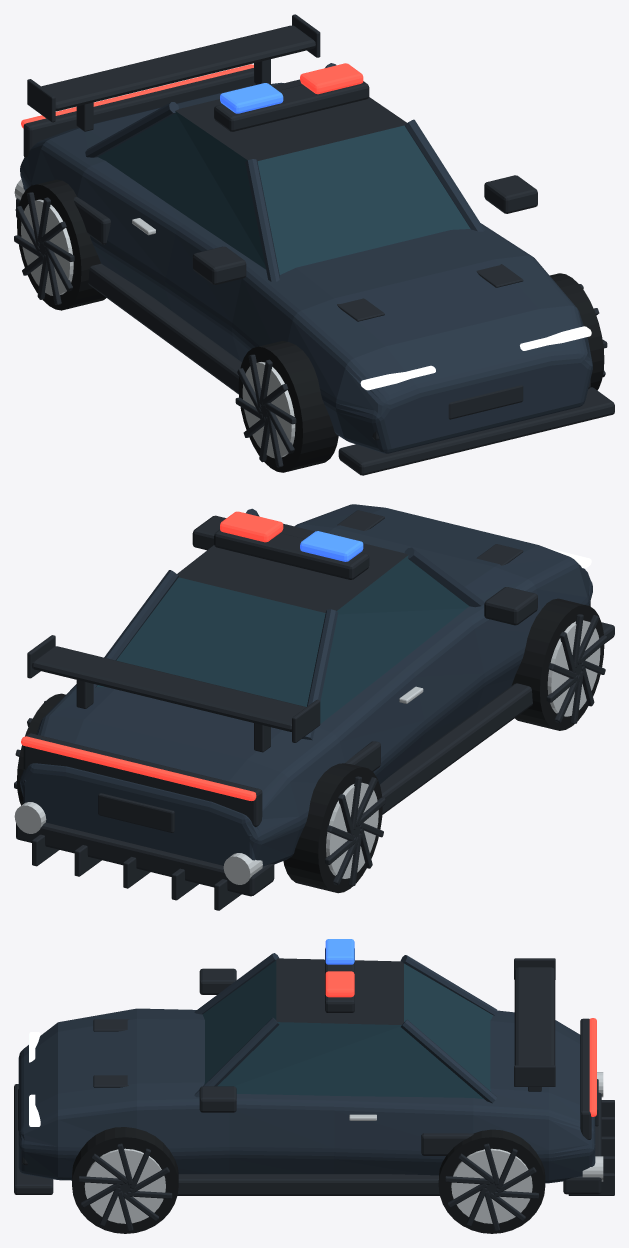
File: pursuit-coupe.glb
3 views of the same model, one above another, from view 1: azimuth 30°, elevation 25°; view 2: azimuth 150°, elevation 25°; view 3: azimuth 270°, elevation 25° (orthographic). The views are drawn at different scales.
Visible parts, largest first — view 1: Craft_Pursuit body, Craft_Carbon graphite.001, Craft_Smoked glazing.001, Craft_Rubber.001, Craft_Rubber.002, Craft_Carbon graphite.002, Craft_Carbon graphite.003, Craft_Rear LED.001, Craft_Machined aluminum.002, Craft_Rubber.003, Craft_Machined aluminum.003, Craft_Headlight LED.001 (+1 smaller); view 2: Craft_Pursuit body, Craft_Carbon graphite.001, Craft_Smoked glazing.001, Craft_Rubber.002, Craft_Rubber.001, Craft_Rear LED.001, Craft_Carbon graphite.002, Craft_Carbon graphite.003, Craft_Machined aluminum.001, Craft_Machined aluminum.003, Craft_Machined aluminum.002, Craft_Emergency blue (+1 smaller); view 3: Craft_Pursuit body, Craft_Carbon graphite.001, Craft_Smoked glazing.001, Craft_Rubber.003, Craft_Rubber.004, Craft_Machined aluminum.005, Craft_Machined aluminum.004, Craft_Carbon graphite.004, Craft_Carbon graphite.005, Craft_Rear LED.001, Craft_Emergency blue, Craft_Machined aluminum.001 (+1 smaller).
Boxes of the visible parts, x1,y1,x2,y2 form: Craft_Pursuit body: (20, 63, 592, 453); Craft_Carbon graphite.001: (16, 14, 614, 475); Craft_Smoked glazing.001: (98, 111, 470, 274); Craft_Rubber.001: (238, 341, 338, 472); Craft_Rubber.002: (17, 179, 106, 310); Craft_Carbon graphite.002: (235, 354, 296, 467); Craft_Carbon graphite.003: (14, 192, 74, 304); Craft_Rear LED.001: (21, 63, 363, 128); Craft_Machined aluminum.002: (242, 362, 295, 458); Craft_Rubber.003: (550, 273, 604, 390); Craft_Machined aluminum.003: (21, 199, 73, 295); Craft_Headlight LED.001: (360, 326, 591, 390); Craft_Pursuit body: (20, 504, 592, 866); Craft_Carbon graphite.001: (16, 510, 614, 910); Craft_Smoked glazing.001: (96, 555, 469, 723); Craft_Rubber.002: (283, 763, 382, 893); Craft_Rubber.001: (511, 598, 604, 730); Craft_Rear LED.001: (21, 511, 283, 800); Craft_Carbon graphite.002: (546, 614, 607, 723); Craft_Carbon graphite.003: (325, 776, 385, 886); Craft_Machined aluminum.001: (14, 686, 423, 884); Craft_Machined aluminum.003: (326, 782, 378, 878); Craft_Machined aluminum.002: (547, 620, 600, 716); Craft_Emergency blue: (300, 531, 363, 561); Craft_Pursuit body: (18, 953, 595, 1183); Craft_Carbon graphite.001: (14, 948, 614, 1195); Craft_Smoked glazing.001: (202, 960, 492, 1099); Craft_Rubber.003: (72, 1127, 178, 1233); Craft_Rubber.004: (438, 1129, 545, 1233); Craft_Machined aluminum.005: (451, 1148, 532, 1223); Craft_Machined aluminum.004: (84, 1148, 165, 1223); Craft_Carbon graphite.004: (78, 1143, 172, 1231); Craft_Carbon graphite.005: (445, 1143, 538, 1231); Craft_Rear LED.001: (325, 971, 596, 1116); Craft_Emergency blue: (325, 939, 354, 964); Craft_Machined aluminum.001: (349, 1072, 603, 1181).
Bounding box in the file's own units: 2.68 × 1.99 × 5.18.
